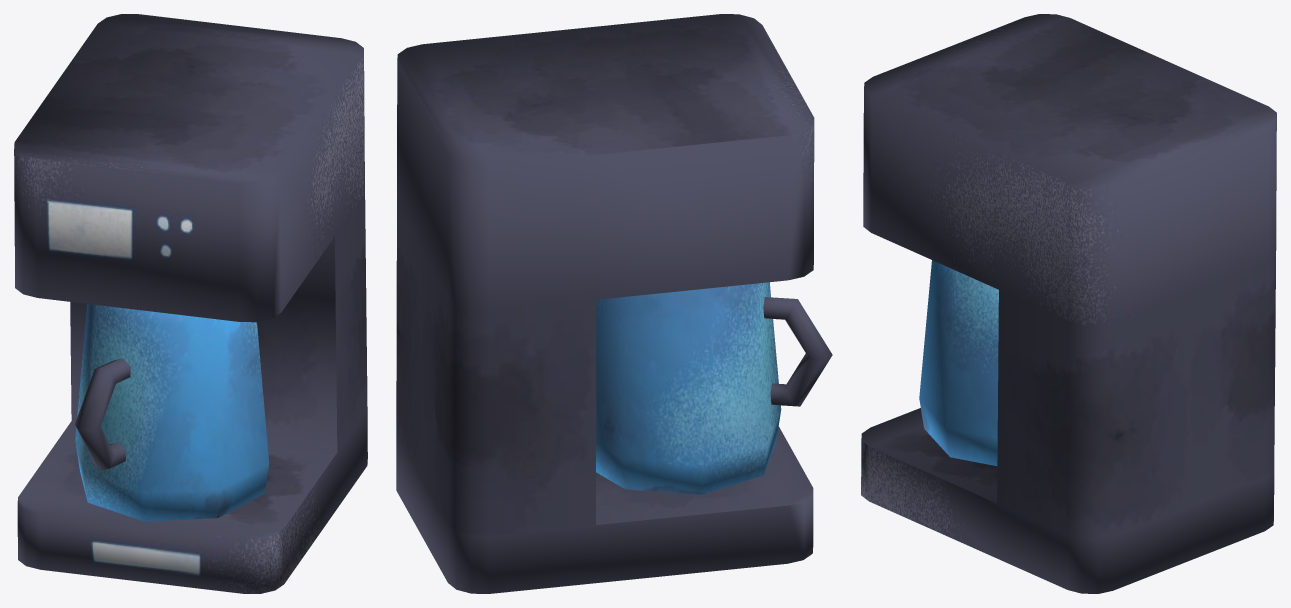
The model's file is 02-cafetierefiltre-model.glb.
3 views of the same model, side by side, from view 1: azimuth 30°, elevation 25°; view 2: azimuth 150°, elevation 25°; view 3: azimuth 270°, elevation 25° (orthographic). The views are drawn at different scales.
Visible parts, largest first — view 1: 02-cafetierefiltre-model; view 2: 02-cafetierefiltre-model; view 3: 02-cafetierefiltre-model.
Boxes of the visible parts, box(x1,y1,x2,y2) form: 02-cafetierefiltre-model: box(14, 14, 367, 593); 02-cafetierefiltre-model: box(396, 14, 832, 593); 02-cafetierefiltre-model: box(861, 14, 1276, 593).
Size of the model in its own units: 4.19 by 4.49 by 4.16.
Materials: 1 (1 with a texture image).
